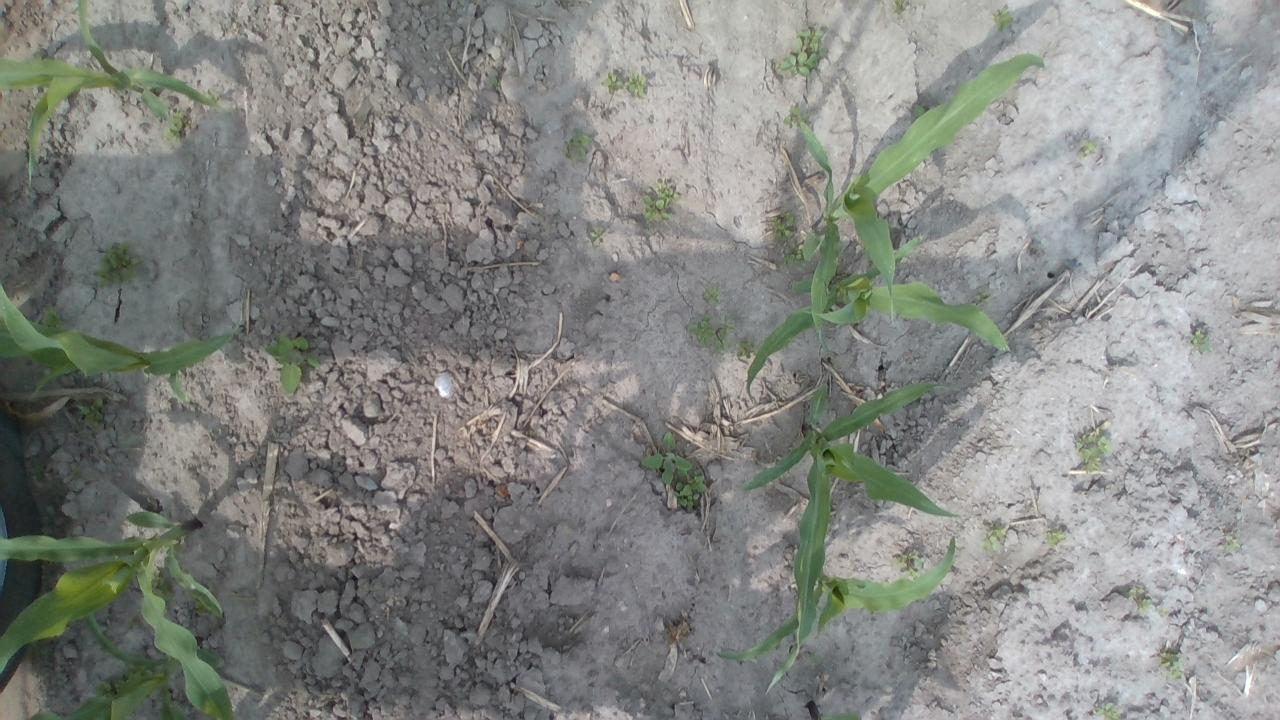Maize: (792, 53, 1049, 350), (742, 374, 965, 700), (0, 510, 241, 717), (741, 231, 1013, 406), (3, 0, 223, 189), (714, 534, 960, 666), (0, 276, 237, 406)
Weeds: (640, 430, 709, 509), (690, 286, 754, 366), (263, 334, 315, 401), (84, 241, 148, 290), (779, 25, 828, 76), (31, 654, 71, 694), (1075, 428, 1112, 470), (640, 182, 676, 225), (778, 211, 806, 265), (604, 72, 646, 96), (167, 111, 191, 140), (980, 527, 1004, 556), (568, 132, 592, 161), (1132, 588, 1159, 610), (897, 552, 923, 572), (1168, 651, 1186, 677), (1078, 137, 1100, 157), (1100, 701, 1122, 719), (1046, 527, 1064, 549), (996, 8, 1014, 27), (1192, 332, 1210, 350), (1224, 534, 1241, 552), (894, 2, 910, 12)
